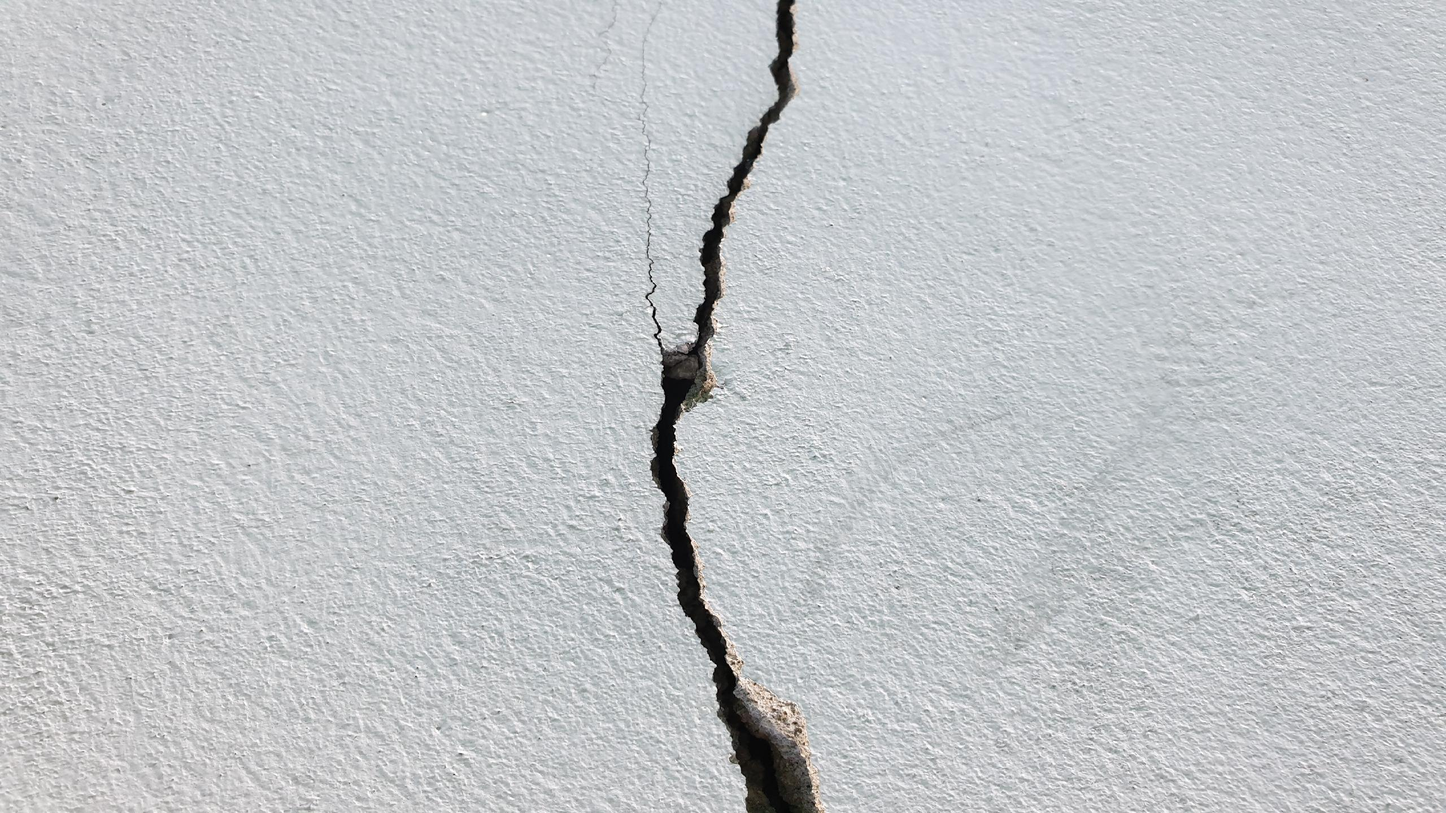crack: (646, 3, 822, 811)
